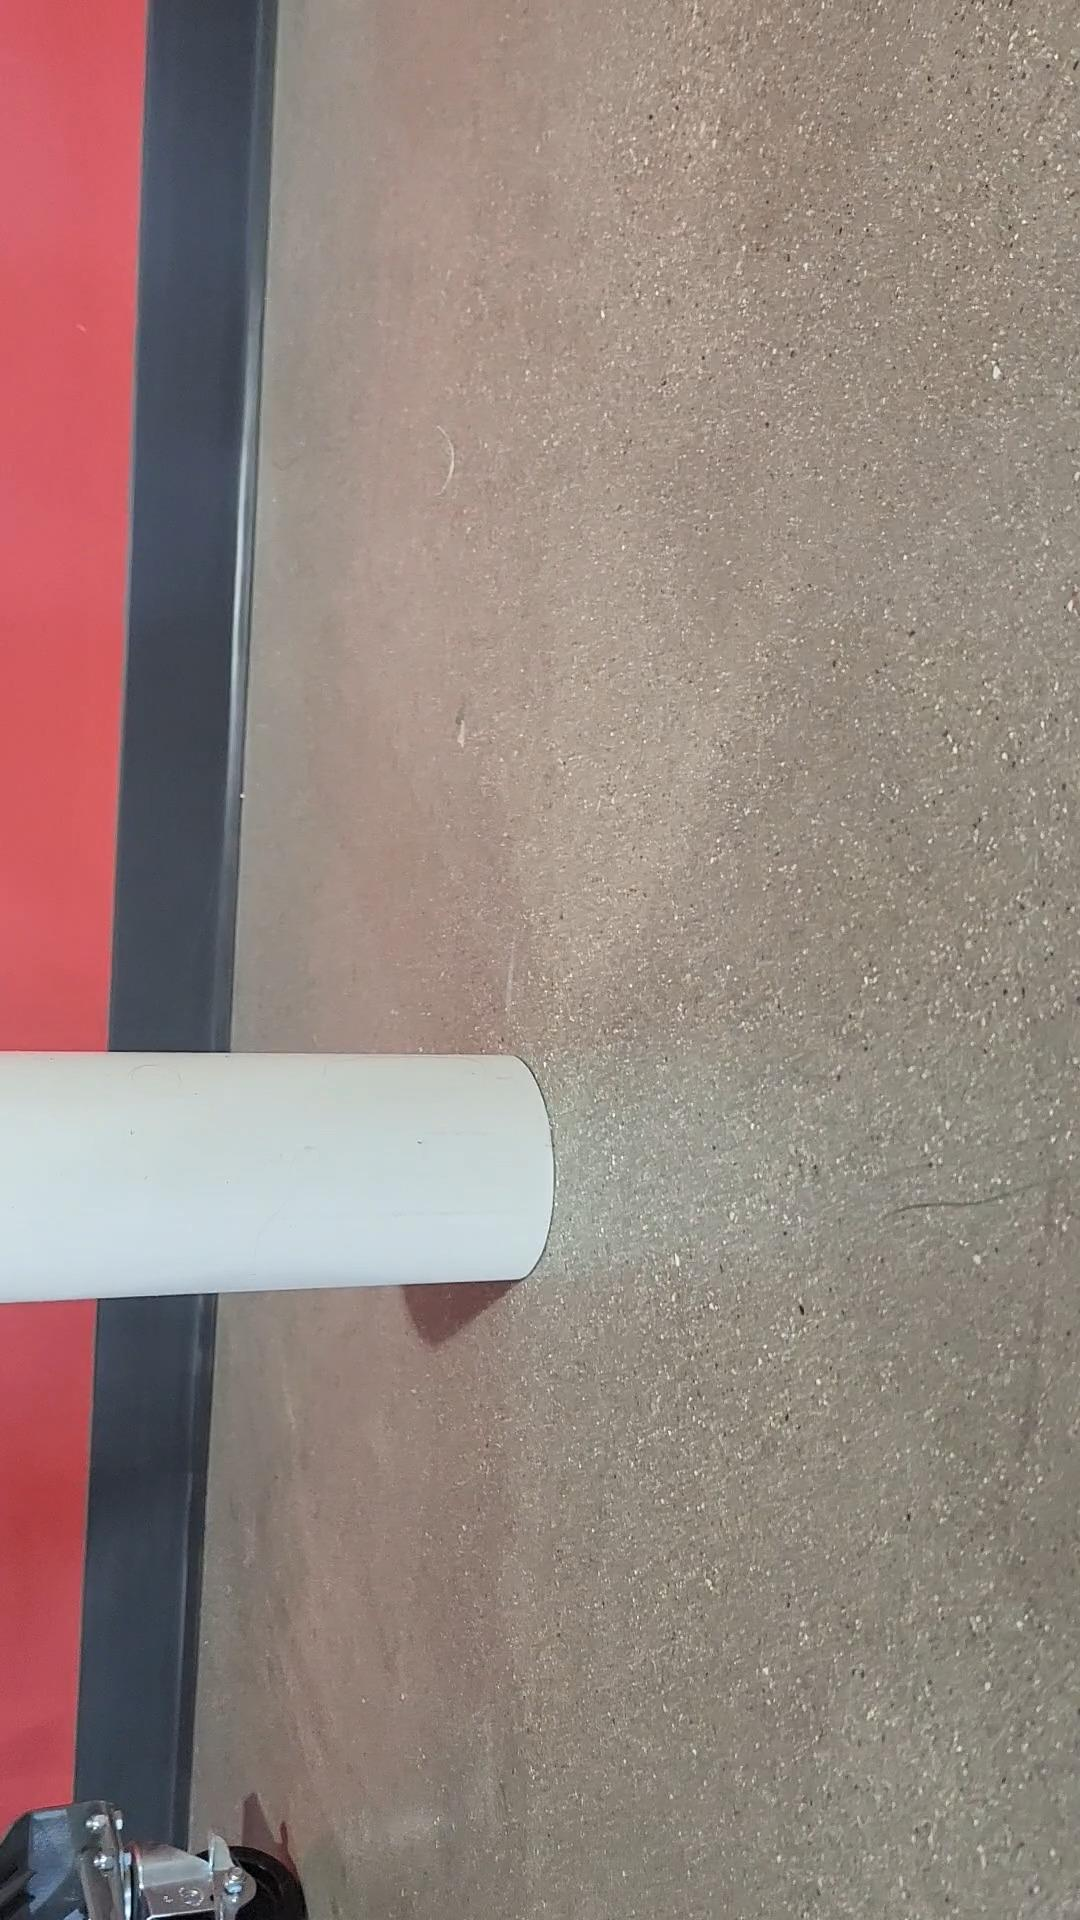coral: (0, 1040, 554, 1307)
